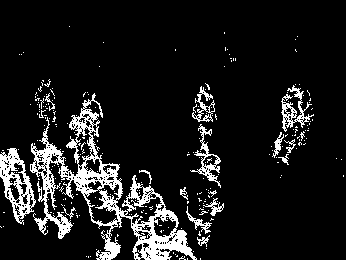person: (73, 154, 123, 260), (29, 138, 75, 240), (179, 152, 226, 248), (131, 208, 200, 260), (120, 169, 169, 240), (1, 148, 36, 227), (283, 86, 315, 168), (70, 89, 104, 164), (273, 79, 298, 162), (191, 81, 217, 152), (34, 77, 58, 142)
